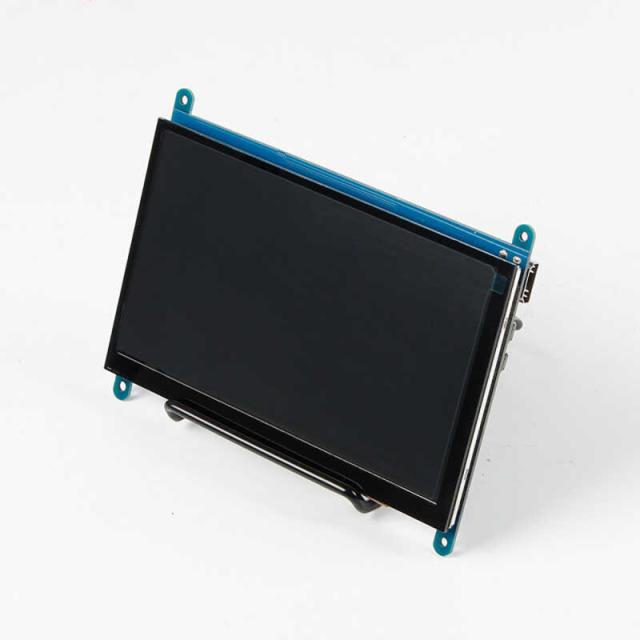Display: (81, 90, 550, 565)
